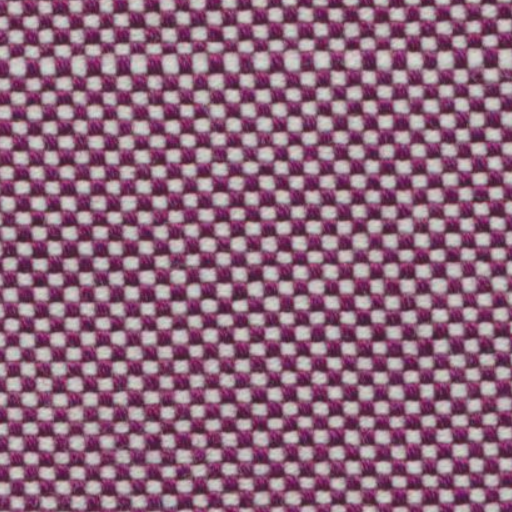TuoSha: (12, 32, 500, 92)
